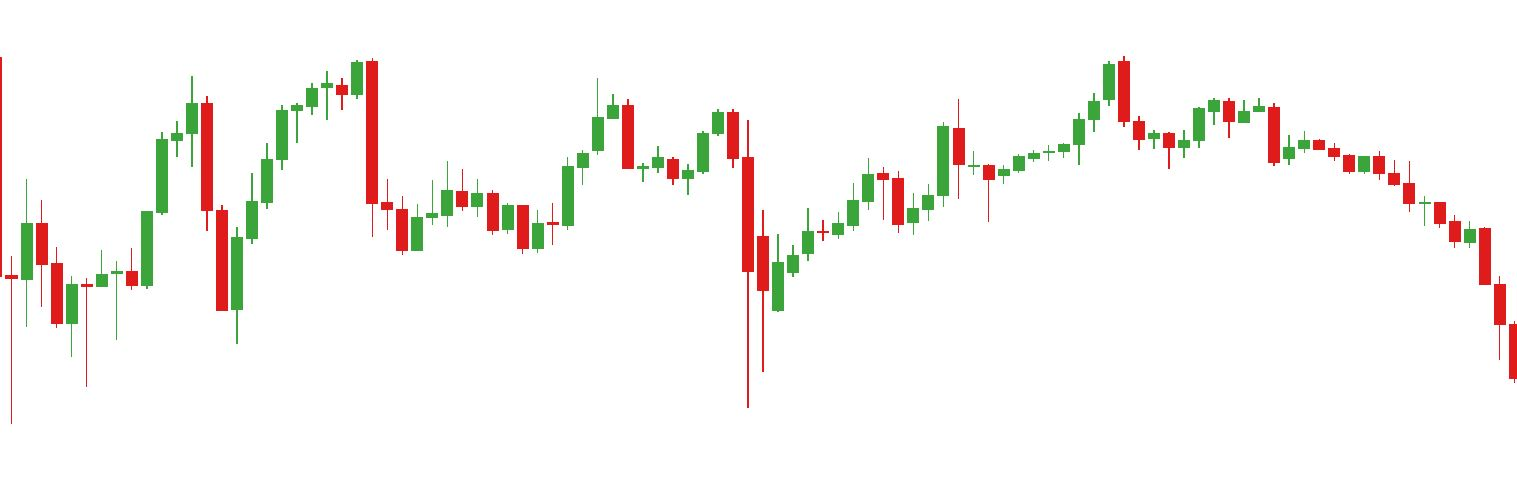buy: (108, 179, 244, 348)
sell: (952, 56, 1130, 150)
